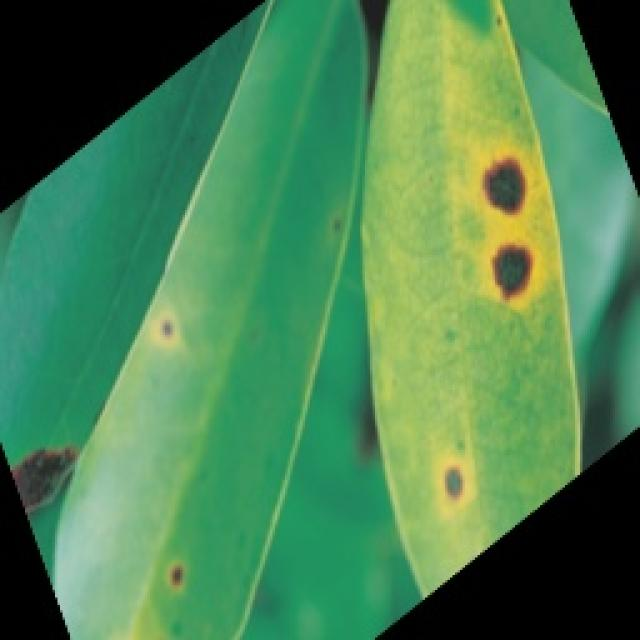Tar_Spot: (414, 125, 640, 358), (428, 434, 467, 532)
